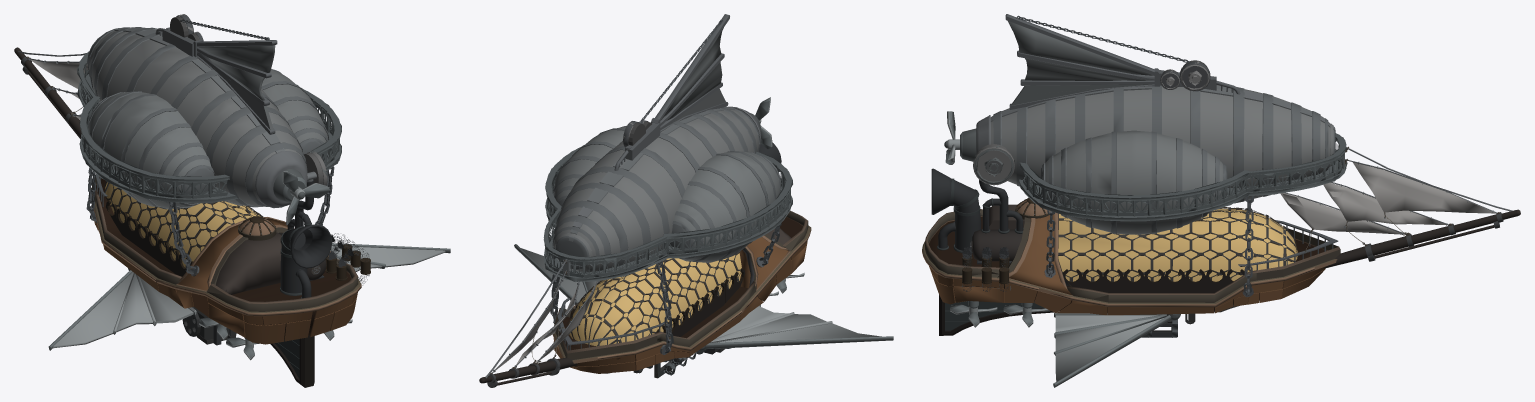
Rendered from airship.glb.
3 views of the same model, side by side, from view 1: azimuth 30°, elevation 25°; view 2: azimuth 150°, elevation 25°; view 3: azimuth 270°, elevation 25° (orthographic). The views are drawn at different scales.
Parts seen in each view (by area): view 1: dirigible; view 2: dirigible; view 3: dirigible.
Part boxes in pixels (x1,y1,x2,y2): dirigible: (14, 14, 450, 387); dirigible: (479, 14, 893, 387); dirigible: (922, 14, 1520, 387).
Bounding box in the file's own units: 15.78 × 12.05 × 20.55.
